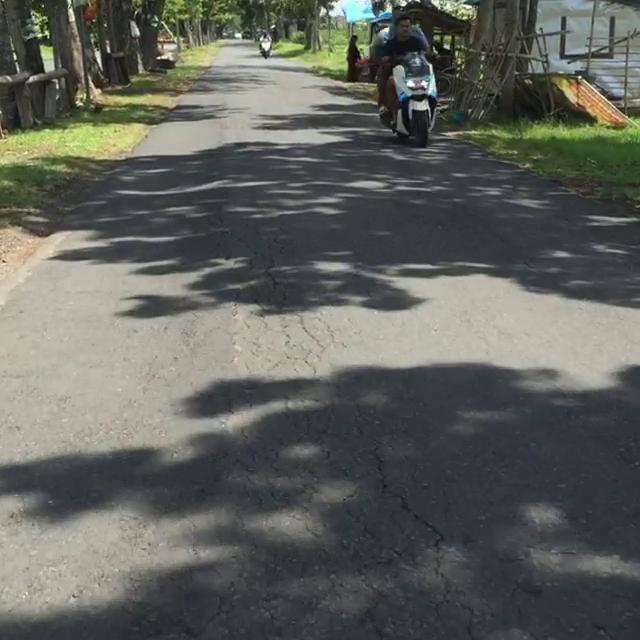retak_kulit_buaya: (220, 283, 336, 411)
